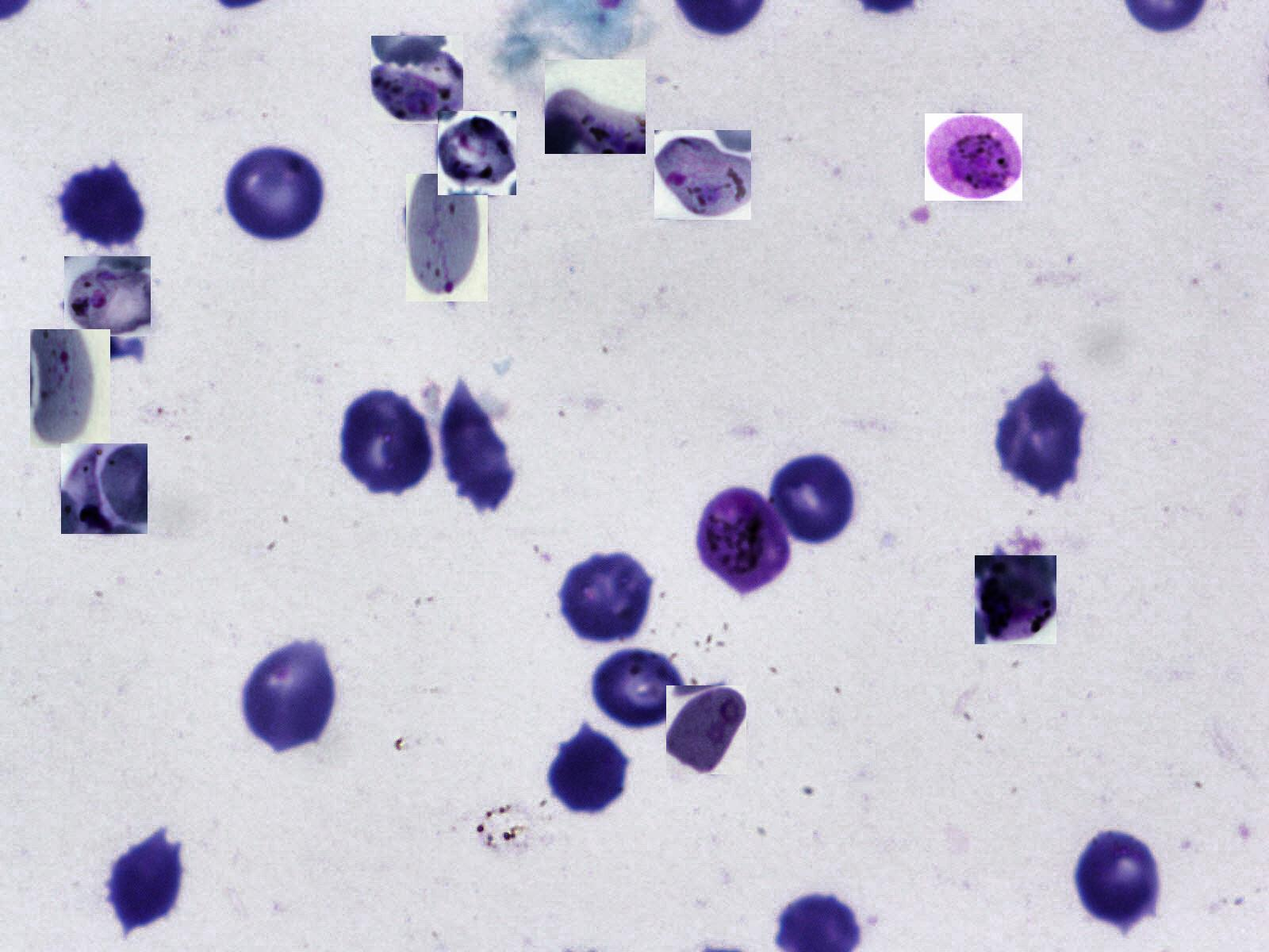Infected: (406, 174, 488, 301), (694, 484, 788, 593), (545, 59, 646, 154), (30, 329, 110, 448), (654, 130, 751, 220), (925, 113, 1022, 201), (371, 36, 463, 124), (61, 443, 148, 534), (975, 555, 1056, 644), (667, 685, 747, 774), (64, 256, 151, 336), (438, 111, 516, 195)
Uninfected: (238, 642, 337, 754), (339, 386, 431, 498), (439, 382, 516, 513), (994, 383, 1079, 495), (225, 148, 323, 240), (562, 557, 660, 647), (768, 458, 863, 550), (1075, 831, 1159, 931), (109, 831, 186, 930), (54, 168, 154, 242), (549, 727, 630, 814), (595, 654, 682, 731)
